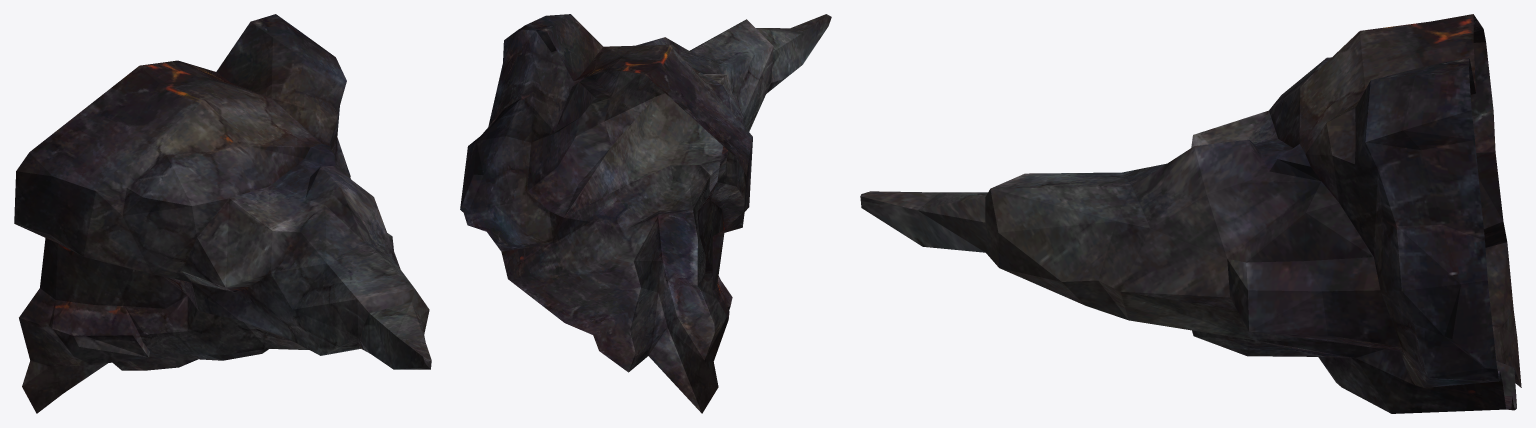
File: huodong_fuben_402_huoshitou_01.obj
The picture shows the model from 3 angles, left to right: view 1: azimuth 30°, elevation 25°; view 2: azimuth 150°, elevation 25°; view 3: azimuth 270°, elevation 25°; orthographic projection. The views are drawn at different scales.
Parts seen in each view (by area): view 1: huodong_fuben_402_huoshitou_01; view 2: huodong_fuben_402_huoshitou_01; view 3: huodong_fuben_402_huoshitou_01.
Part boxes in pixels (left/top/right/bottom): huodong_fuben_402_huoshitou_01: left=14, top=14, right=431, bottom=413; huodong_fuben_402_huoshitou_01: left=460, top=14, right=831, bottom=413; huodong_fuben_402_huoshitou_01: left=860, top=14, right=1521, bottom=413.
Bounding box in the file's own units: 1300 × 1424 × 1898.
Materials: 1 (1 with a texture image).
